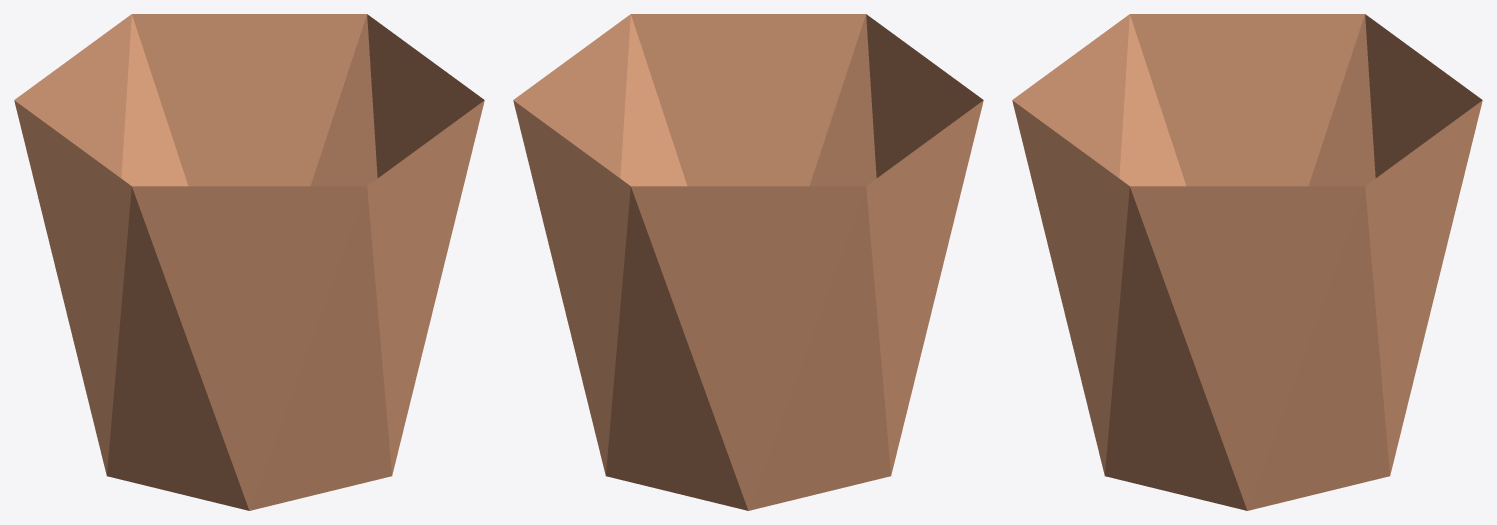
File: modelo.glb
3 renders of one model, left to right at view 1: azimuth 30°, elevation 25°; view 2: azimuth 150°, elevation 25°; view 3: azimuth 270°, elevation 25°, orthographic.
Size of the model in its own units: 0.0866 by 0.08 by 0.1.
